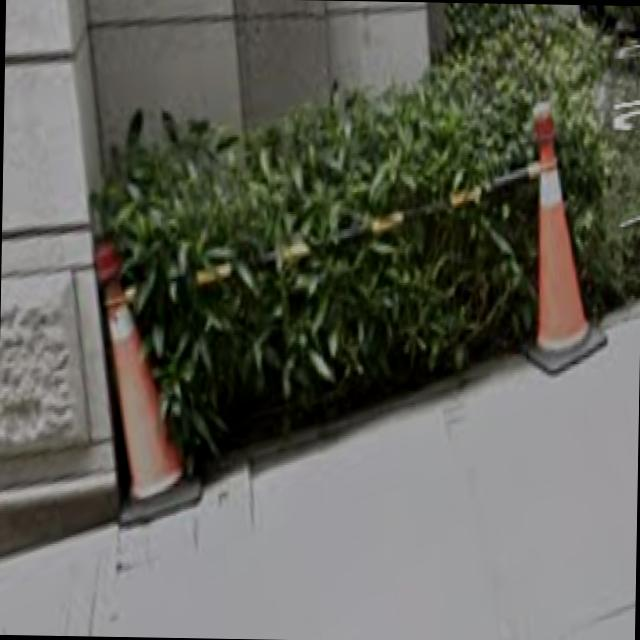cone: (530, 136, 608, 354), (104, 268, 176, 500)
